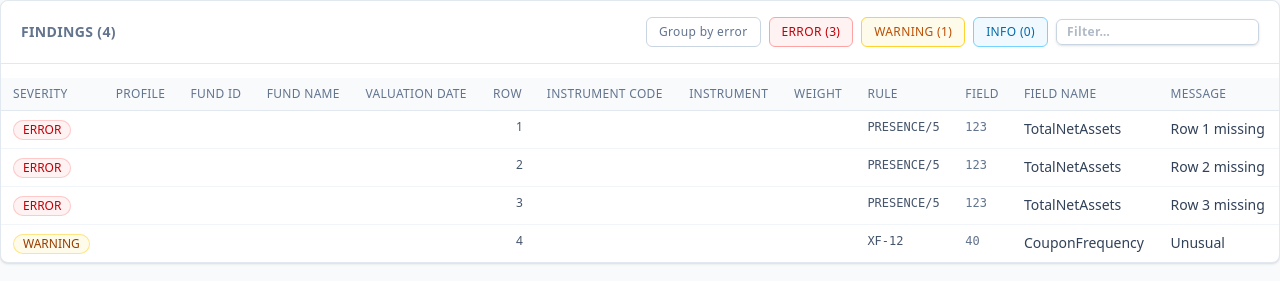
Test: FindingsTable › group by error › respects severity filter before grouping
Click the button "Group by error" at (703, 32), box [646,17,760,47]
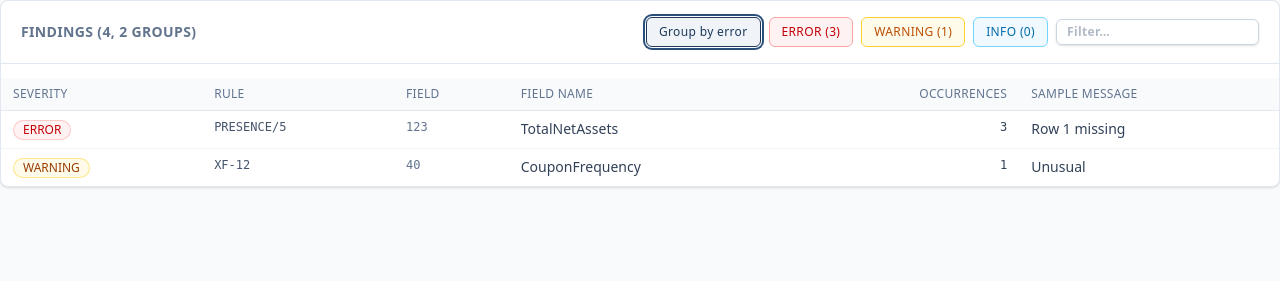
Click the button "ERROR (3)" at (811, 32), box [768,17,853,47]
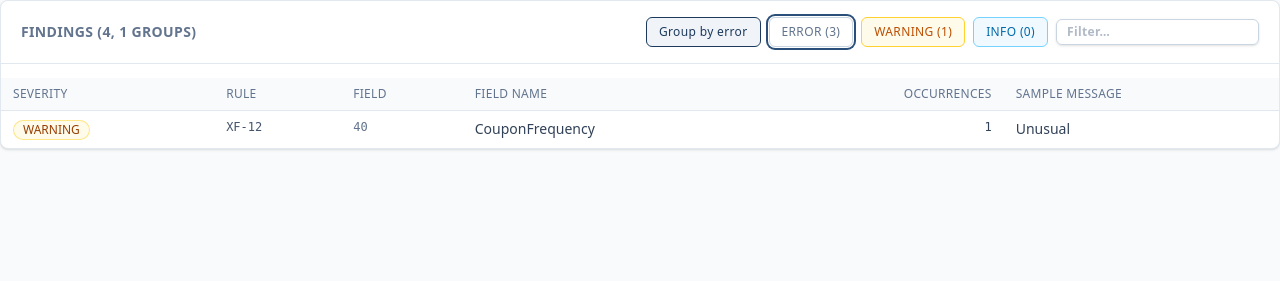
Now the text "PRESENCE/5" is gone
Now the text "XF-12" is shown, box [214,110,341,148]
